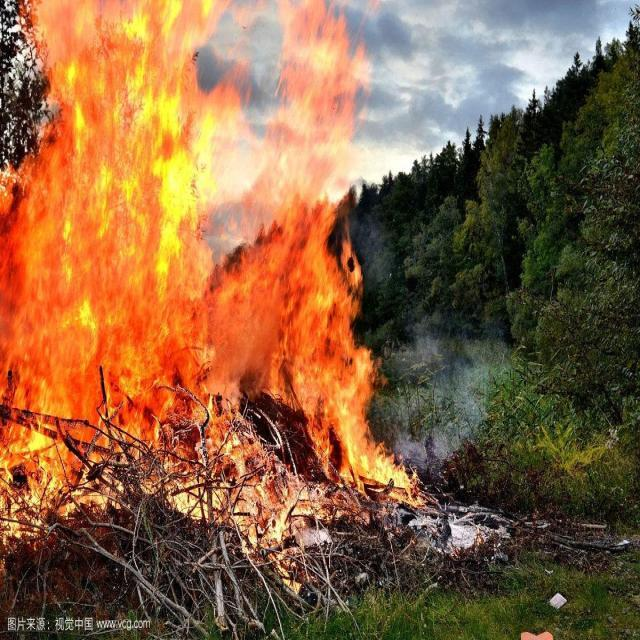Fire: (1, 0, 426, 598)
Smoke: (392, 311, 507, 478)
